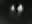person: (17, 3, 24, 18), (10, 5, 16, 15)
